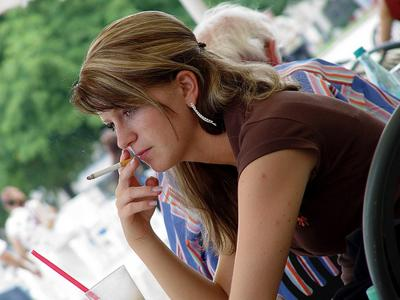person: (70, 10, 390, 300)
